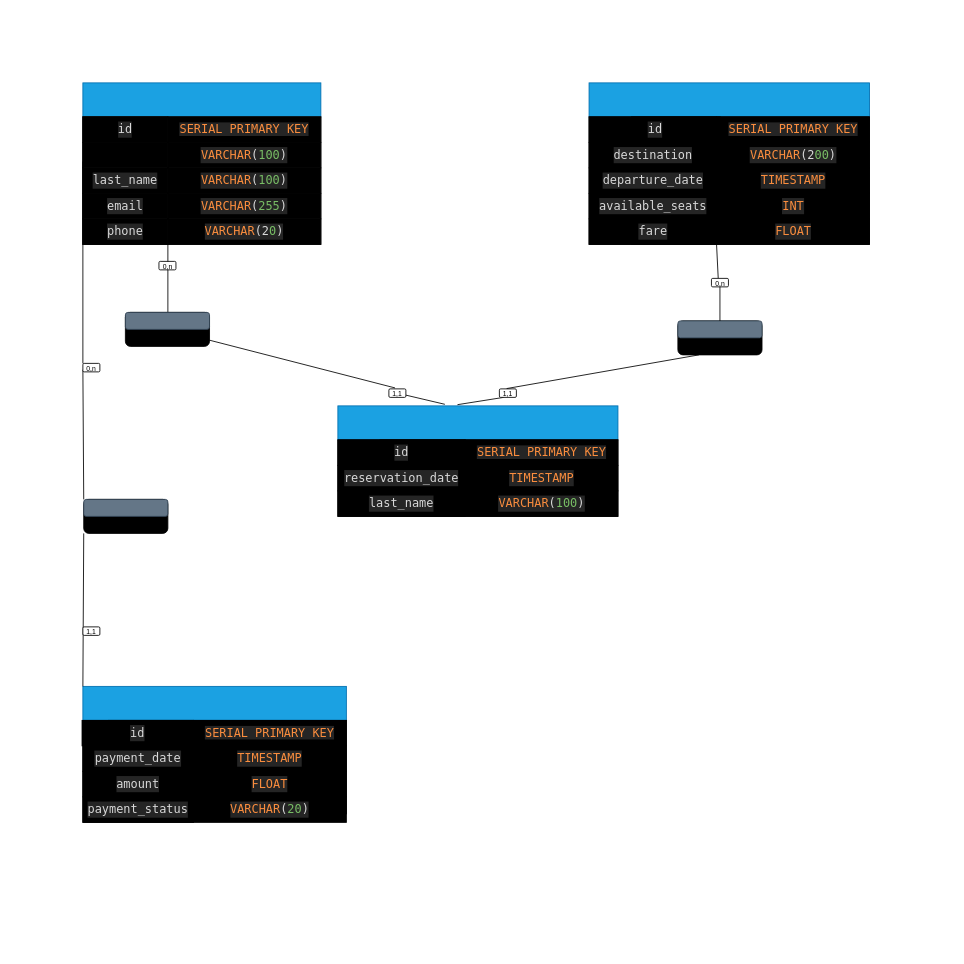
Image size: 964x964. Some labels were removed from this diagram. The shapes that lost their labels are listed below. From the top down, each one's centre as x and y in pixels, then its label:
At (201,99): "client".
At (729,99): "voyage".
At (125,155): "first_name".
At (167,320): "book".
At (719,329): "affiliate".
At (477,422): "reservation".
At (125,507): "pay".
At (214,703): "payment".
